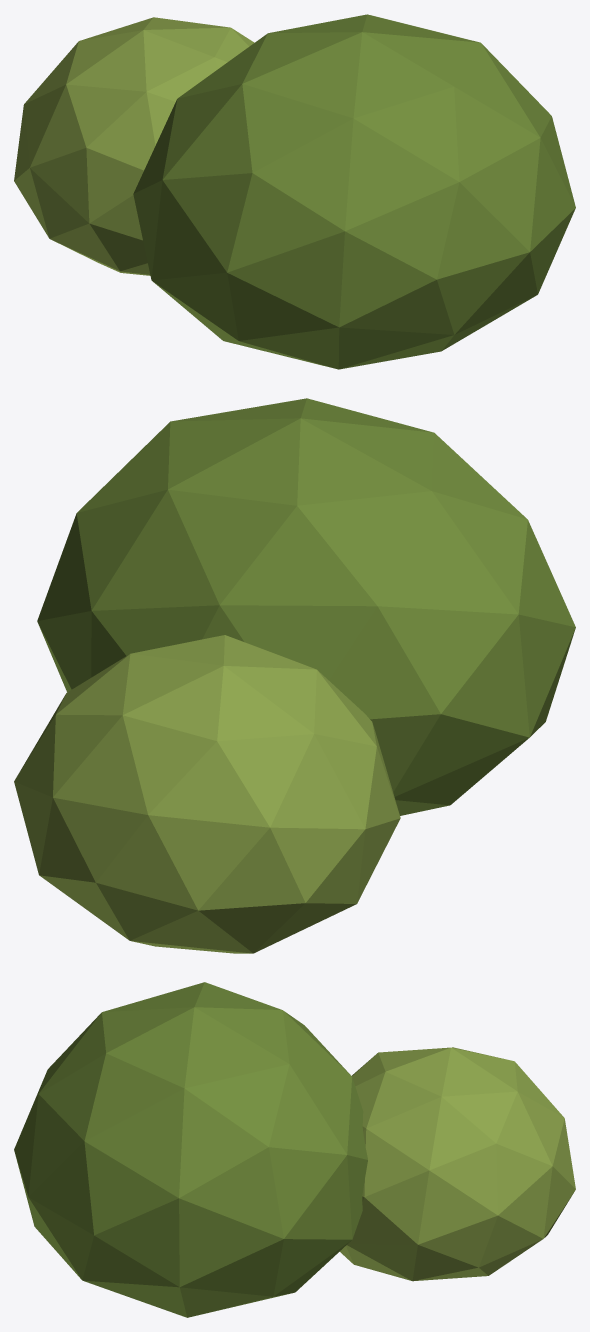
3 views of the same model, one above another, from view 1: azimuth 30°, elevation 25°; view 2: azimuth 150°, elevation 25°; view 3: azimuth 270°, elevation 25° (orthographic). The views are drawn at different scales.
Visible parts, largest first — view 1: G20; view 2: G20; view 3: G20.
Part boxes in pixels (bbox=[...]): G20: bbox=[14, 14, 575, 369]; G20: bbox=[14, 398, 575, 953]; G20: bbox=[14, 982, 575, 1317].
Bounding box in the file's own units: 1.42 × 1.04 × 2.
